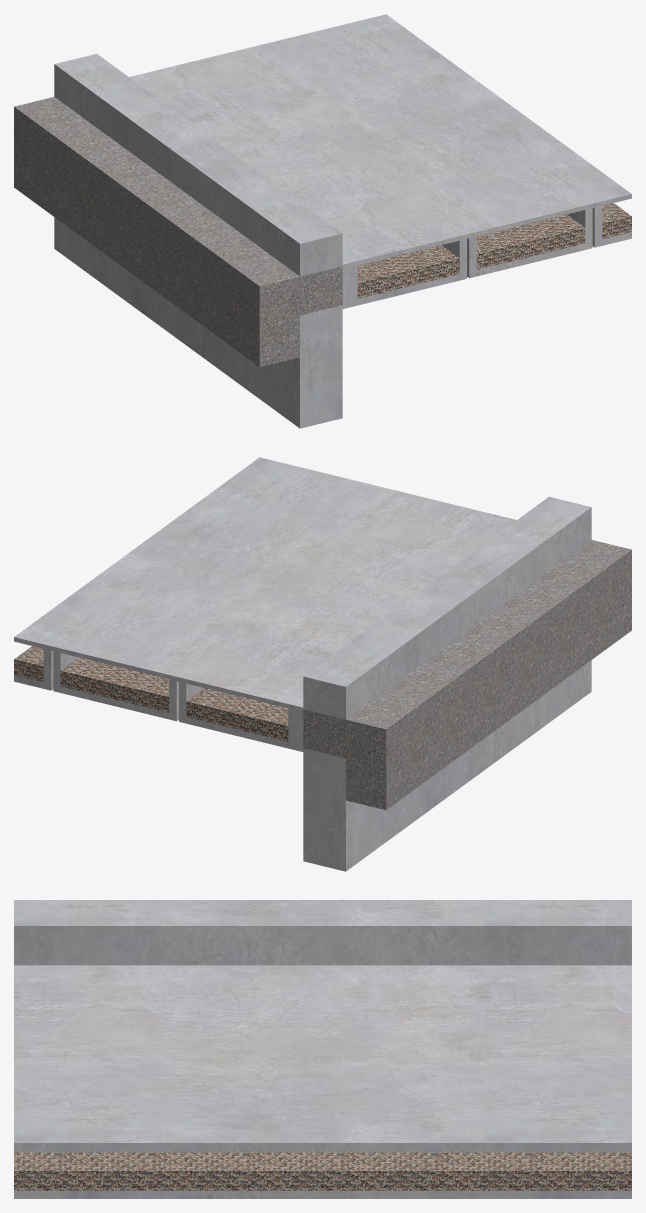
The model's file is channel-inverted.glb.
3 renders of one model, top to bottom at view 1: azimuth 30°, elevation 25°; view 2: azimuth 150°, elevation 25°; view 3: azimuth 270°, elevation 25°, orthographic. The views are drawn at different scales.
Visible parts, largest first — view 1: 平整层, 墙内梁-左外挑直角支承, 墙, 填料, 倒放槽形板; view 2: 平整层, 墙内梁-左外挑直角支承, 墙, 填料, 倒放槽形板; view 3: 平整层, 墙, 填料, 倒放槽形板.
Part boxes in pixels (<box>): 平整层: <box>129,14,631,268</box>; 墙内梁-左外挑直角支承: <box>14,96,342,367</box>; 墙: <box>54,53,342,428</box>; 填料: <box>357,203,631,298</box>; 倒放槽形板: <box>342,206,631,308</box>; 平整层: <box>14,457,516,711</box>; 墙内梁-左外挑直角支承: <box>303,539,631,810</box>; 墙: <box>303,496,591,871</box>; 填料: <box>14,646,288,741</box>; 倒放槽形板: <box>14,649,303,751</box>; 平整层: <box>14,965,631,1148</box>; 墙: <box>14,900,631,965</box>; 填料: <box>14,1152,631,1190</box>; 倒放槽形板: <box>14,1148,631,1198</box>.
Size of the model in its own units: 1.75 by 0.83 by 2.
Materials: 5 (5 with a texture image).
